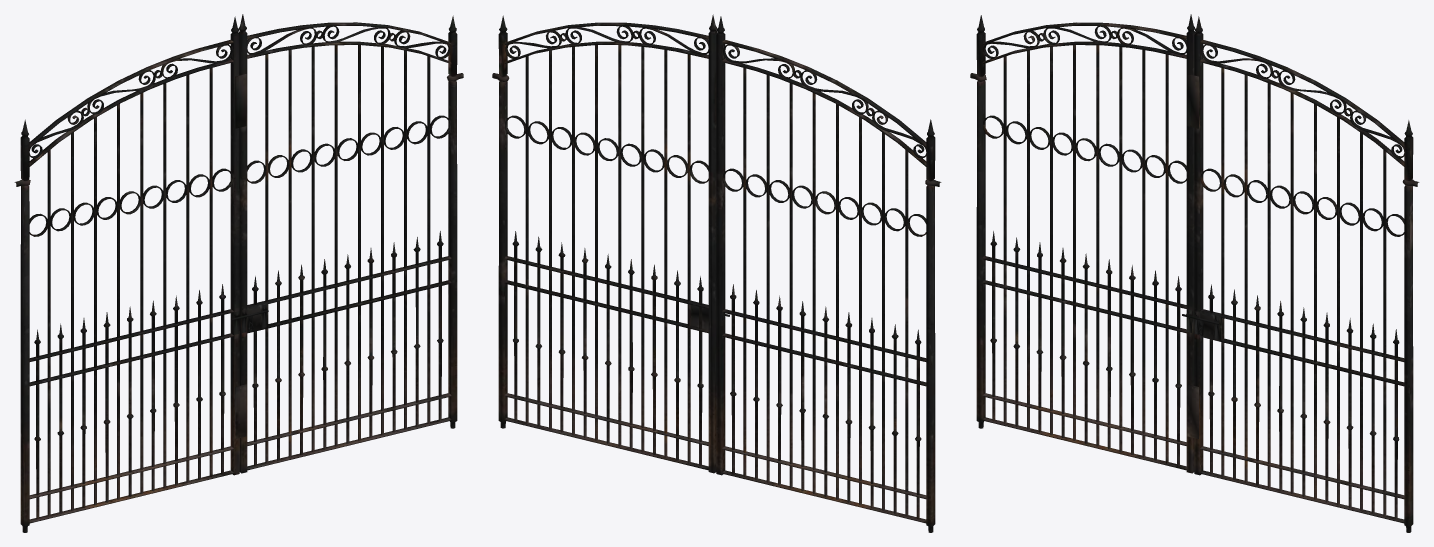
Rendered from large_iron_gate.glb.
The picture shows the model from 3 angles, left to right: view 1: azimuth 30°, elevation 25°; view 2: azimuth 150°, elevation 25°; view 3: azimuth 330°, elevation 25°; orthographic projection.
Visible parts, largest first — view 1: large_iron_gate_right_door, large_iron_gate_left_door; view 2: large_iron_gate_left_door, large_iron_gate_right_door; view 3: large_iron_gate_right_door, large_iron_gate_left_door.
Boxes of the visible parts, x1=… form: large_iron_gate_right_door: x1=235, y1=14, x2=457, y2=473; large_iron_gate_left_door: x1=20, y1=16, x2=239, y2=532; large_iron_gate_left_door: x1=716, y1=16, x2=935, y2=532; large_iron_gate_right_door: x1=498, y1=14, x2=717, y2=473; large_iron_gate_right_door: x1=1187, y1=16, x2=1413, y2=532; large_iron_gate_left_door: x1=976, y1=14, x2=1195, y2=473.
Bounding box in the file's own units: 2.95 × 2.93 × 0.0973.
1 material, 1 textured.
